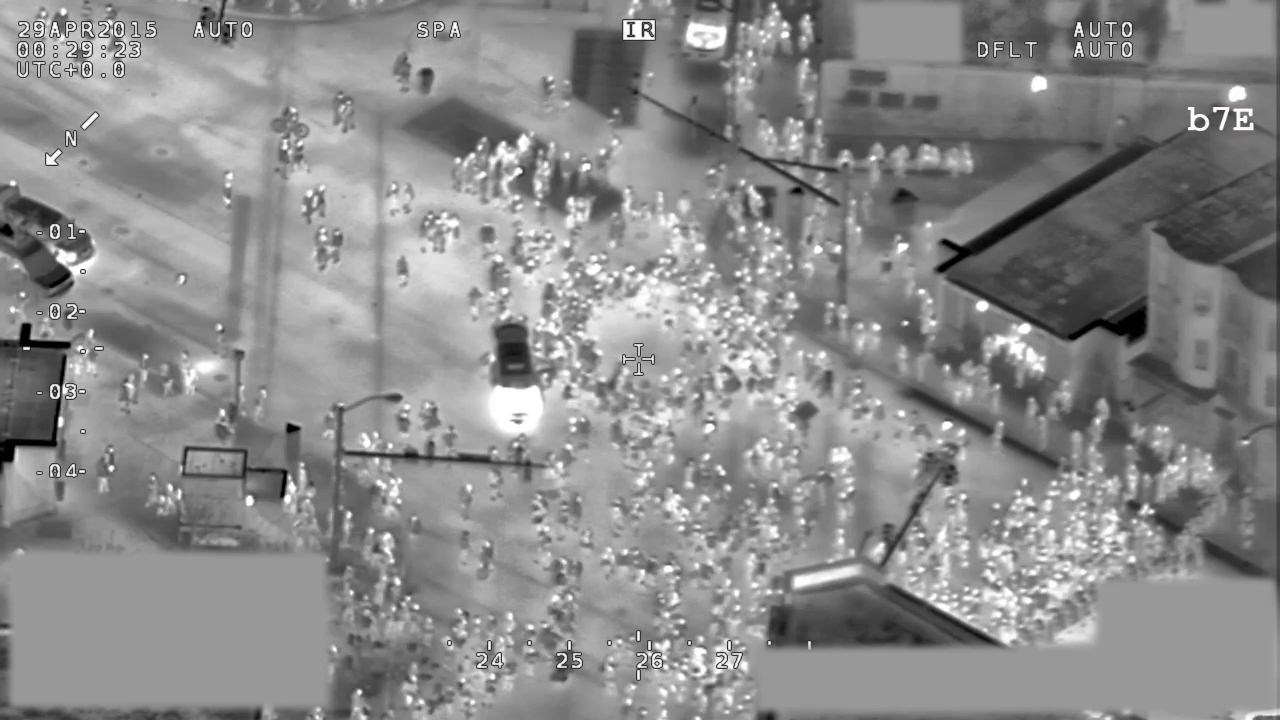vehicle: (482, 313, 551, 439)
